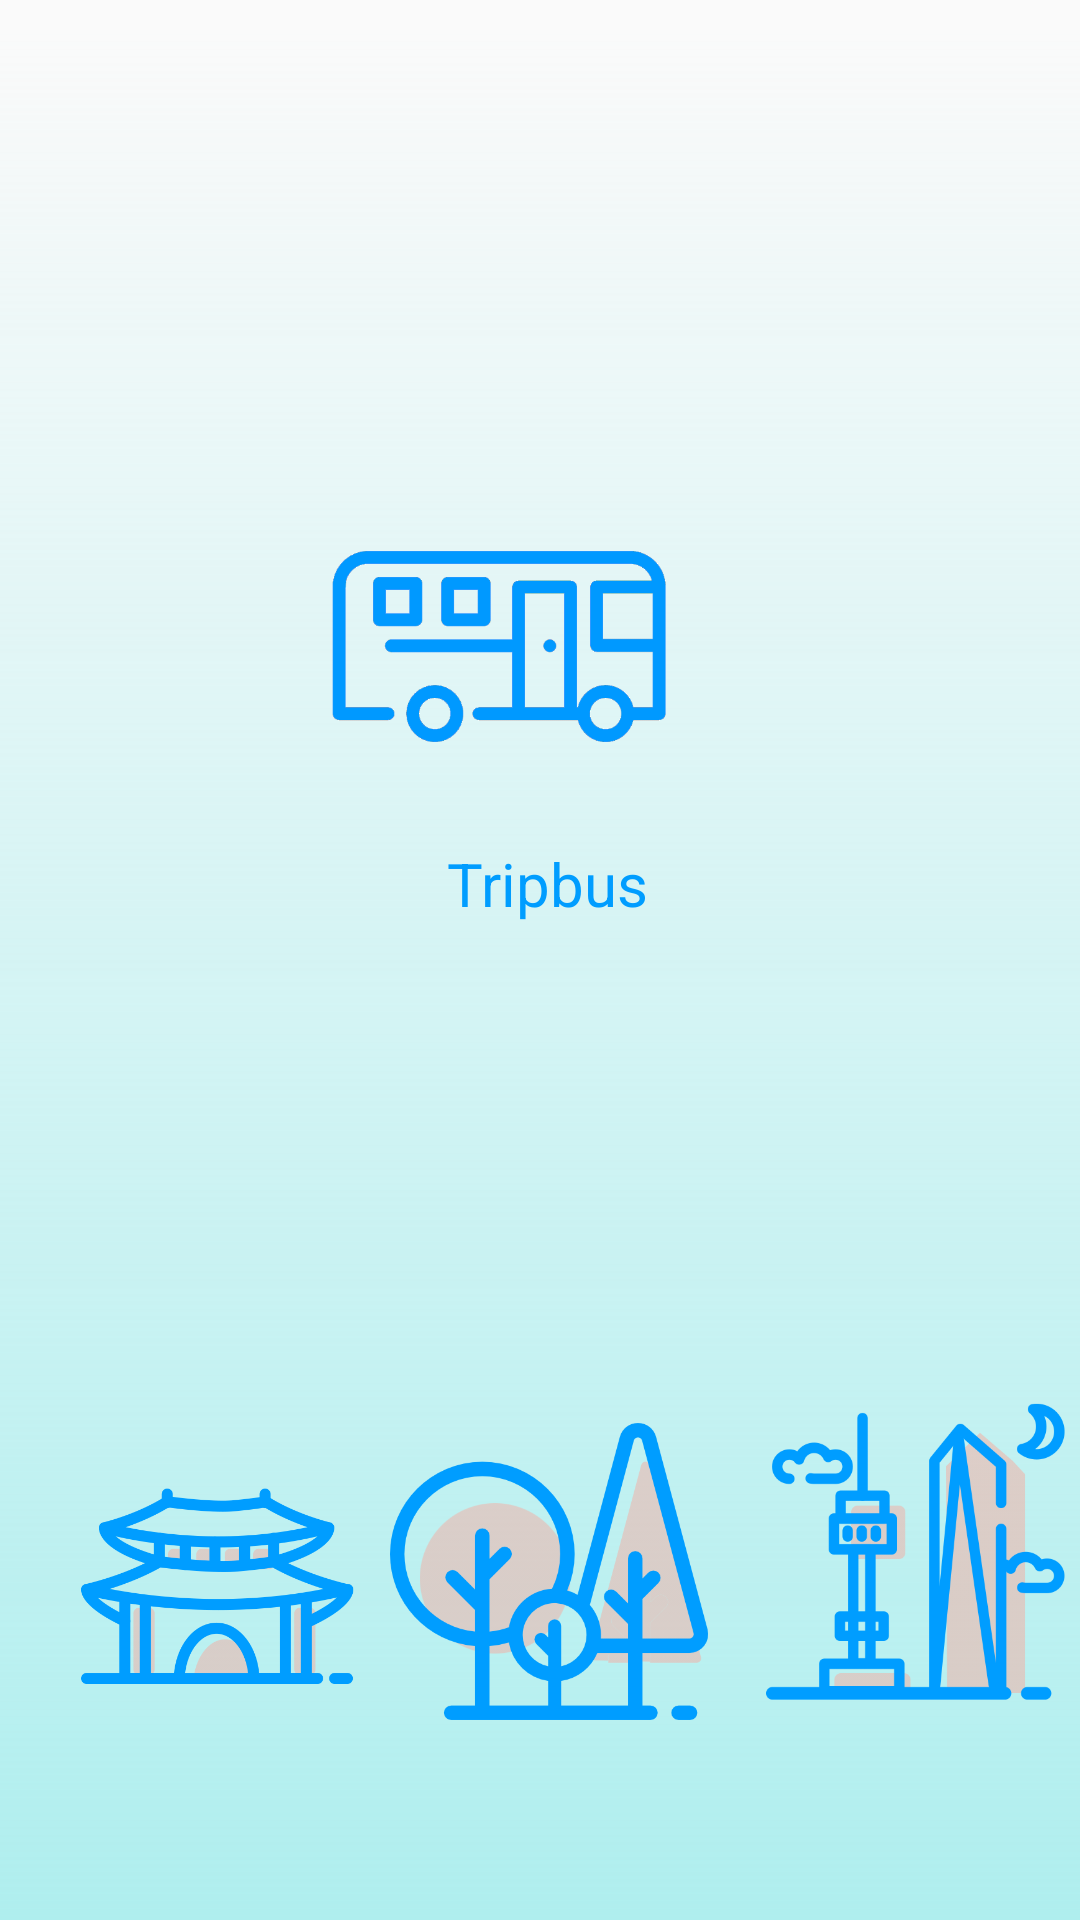

Icon click points for this 1080px×1920px phone screenshot, format point (x, y):
bus intro: point (499, 646)
